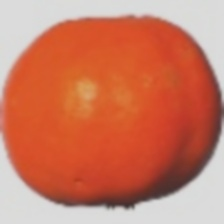tangerine: (42, 5, 191, 199)
